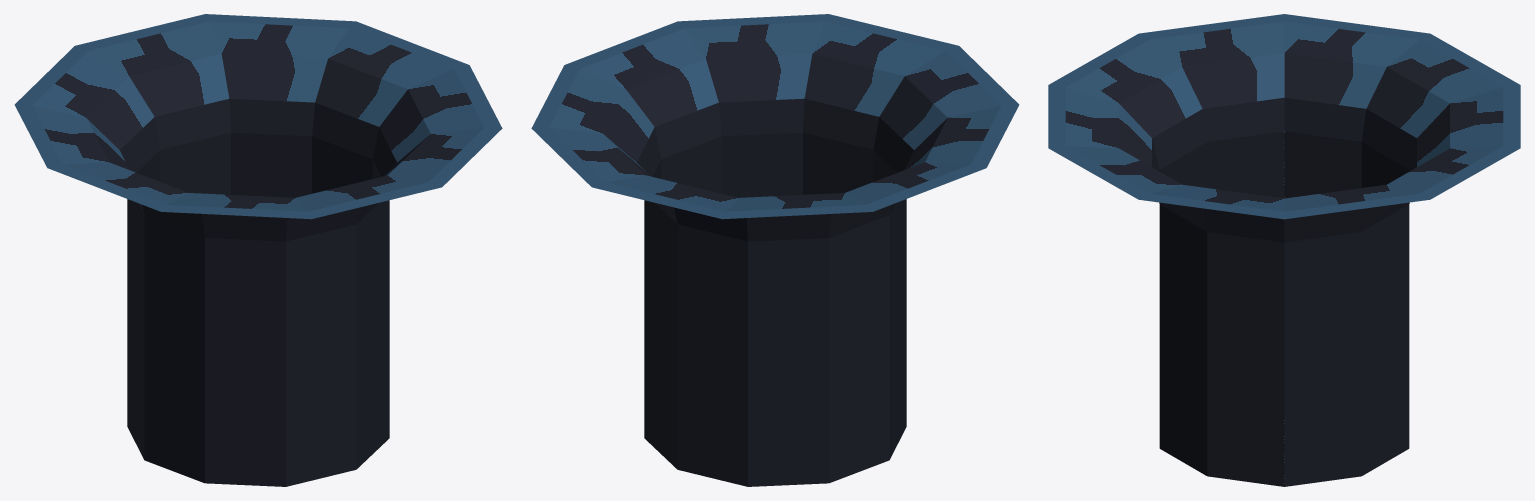
File: hole.glb
3 views of the same model, side by side, from view 1: azimuth 30°, elevation 25°; view 2: azimuth 150°, elevation 25°; view 3: azimuth 270°, elevation 25° (orthographic).
Parts seen in each view (by area): view 1: tube-col; view 2: tube-col; view 3: tube-col.
Part boxes in pixels (bbox=[...]): tube-col: bbox=[14, 14, 502, 486]; tube-col: bbox=[531, 14, 1019, 486]; tube-col: bbox=[1048, 14, 1520, 486].
Size of the model in its own units: 0.9007 by 0.6438 by 0.875.
1 material, 1 textured.
